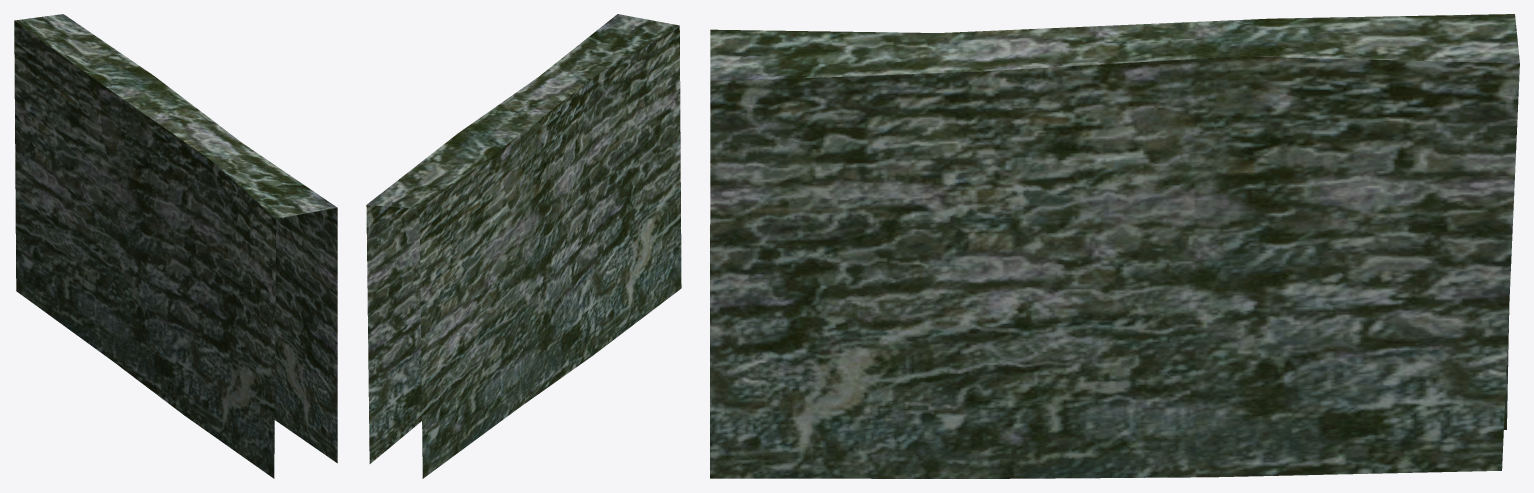
The model's file is Tn_wall2.glb.
The picture shows the model from 3 angles, left to right: view 1: azimuth 30°, elevation 25°; view 2: azimuth 150°, elevation 25°; view 3: azimuth 270°, elevation 25°; orthographic projection. The views are drawn at different scales.
Visible parts, largest first — view 1: Tn_wall2; view 2: Tn_wall2; view 3: Tn_wall2.
Boxes of the visible parts, x1,y1,x2,y2 form: Tn_wall2: [14, 14, 337, 478]; Tn_wall2: [366, 14, 681, 478]; Tn_wall2: [710, 14, 1519, 478].
Size of the model in its own units: 2.02 by 8.11 by 14.22.
1 material, 1 textured.
